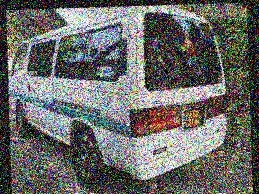van: (10, 5, 232, 193)
